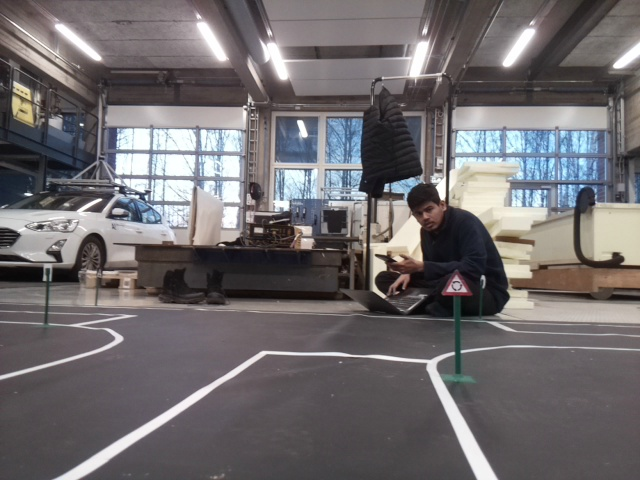Roundabout: (441, 269, 473, 296)
